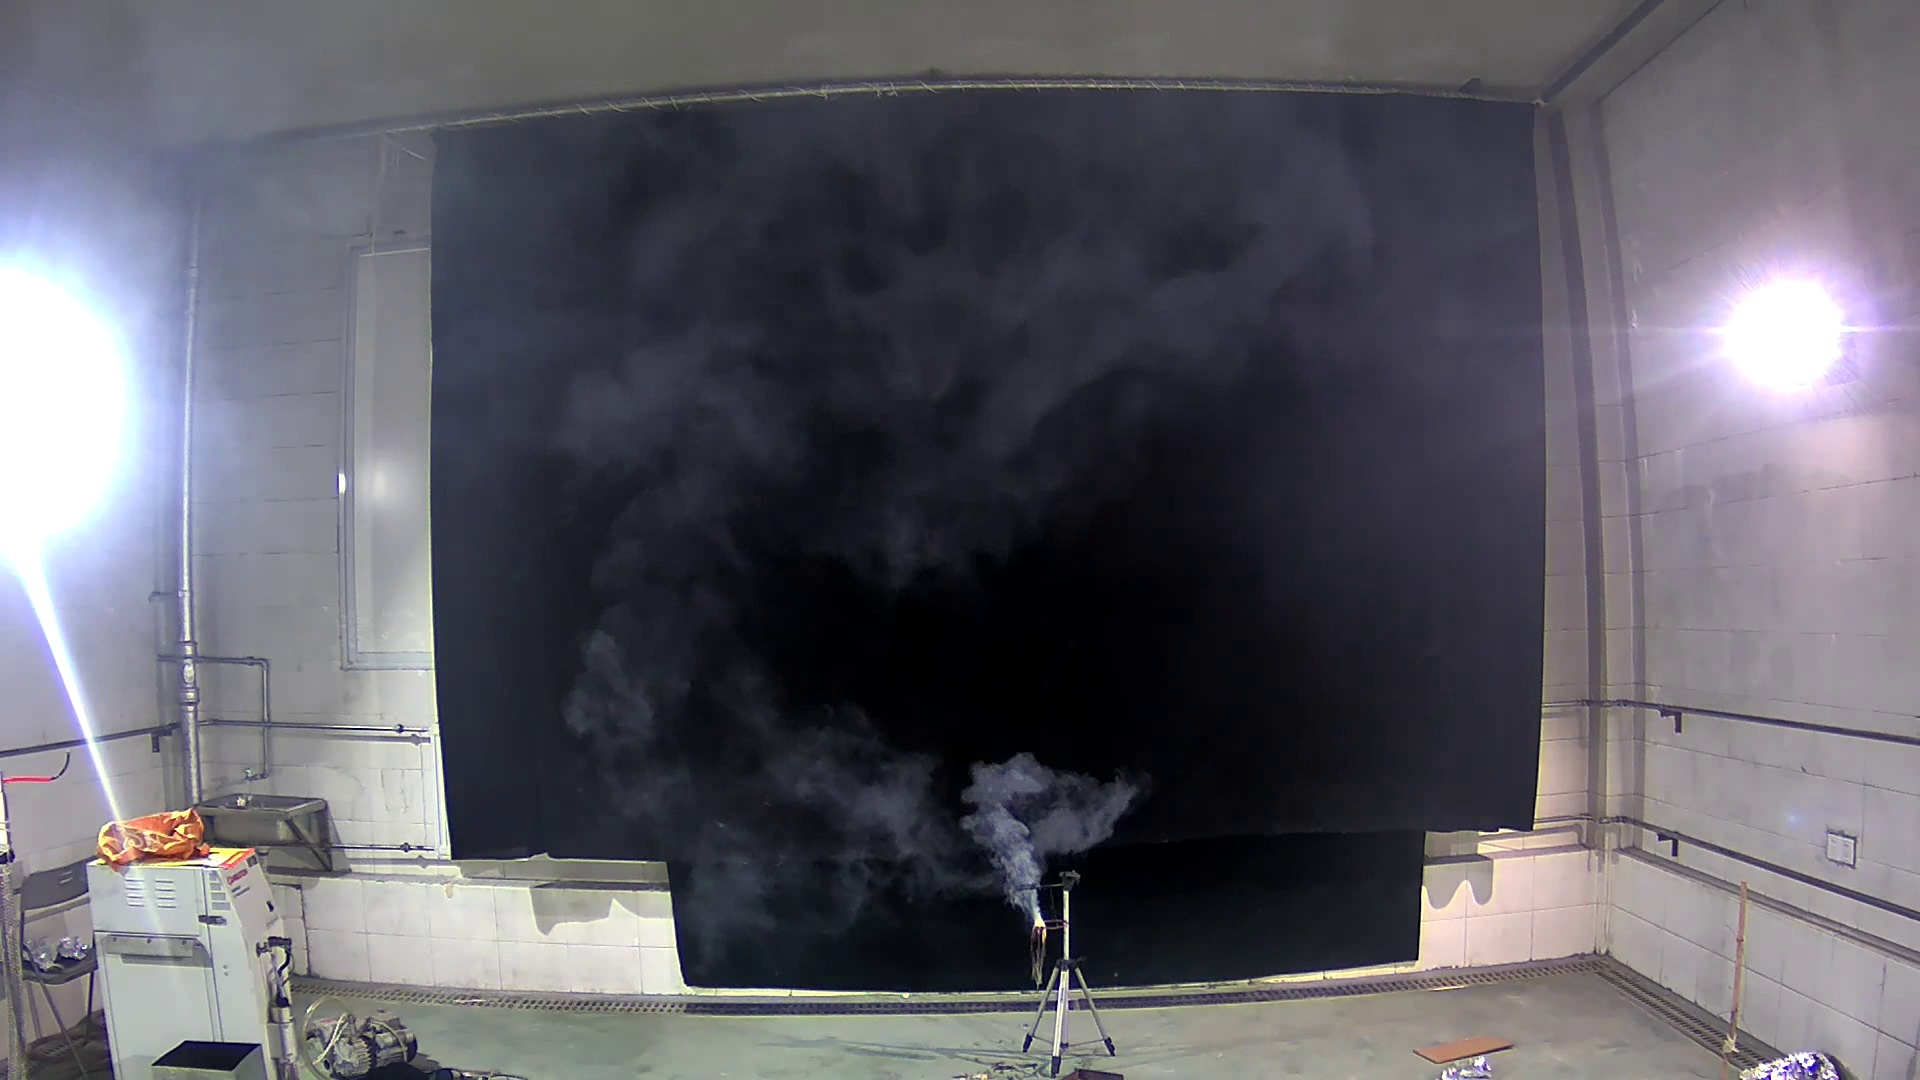smoke: (549, 607, 1153, 945)
